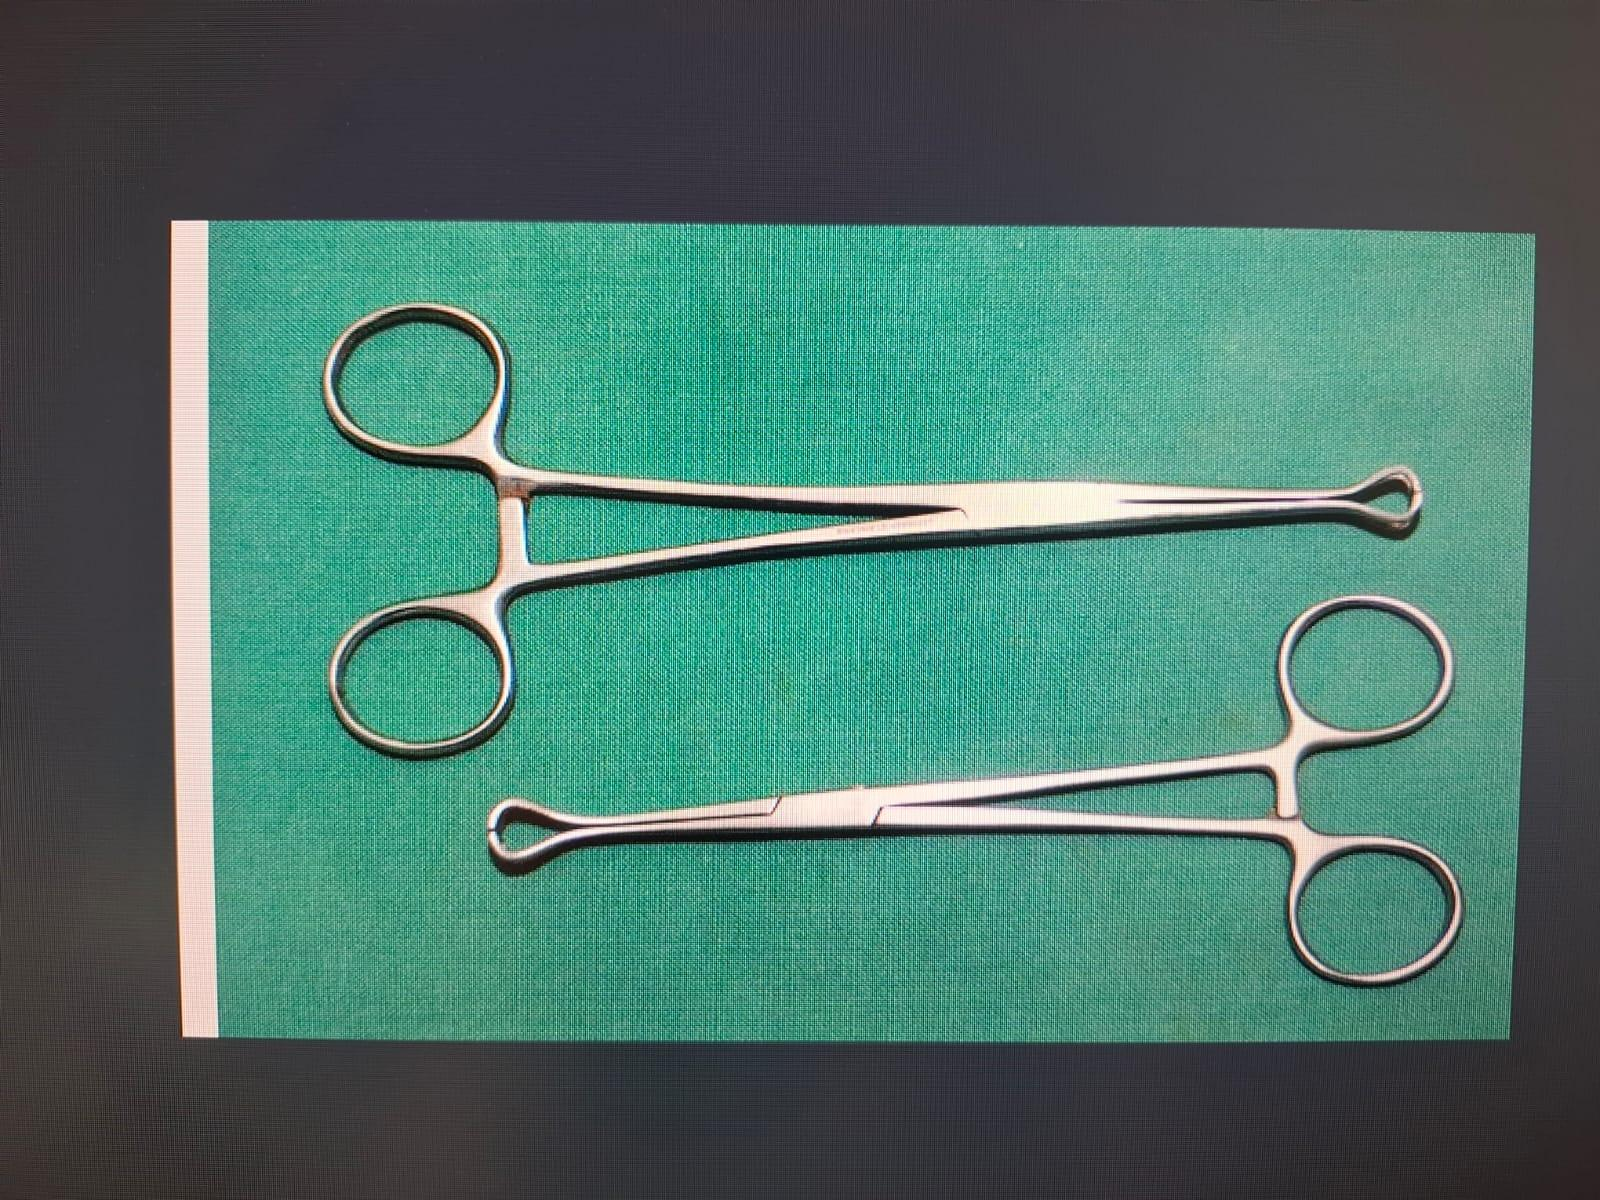Babcock Forceps: (304, 286, 1436, 760), (470, 584, 1487, 998)
